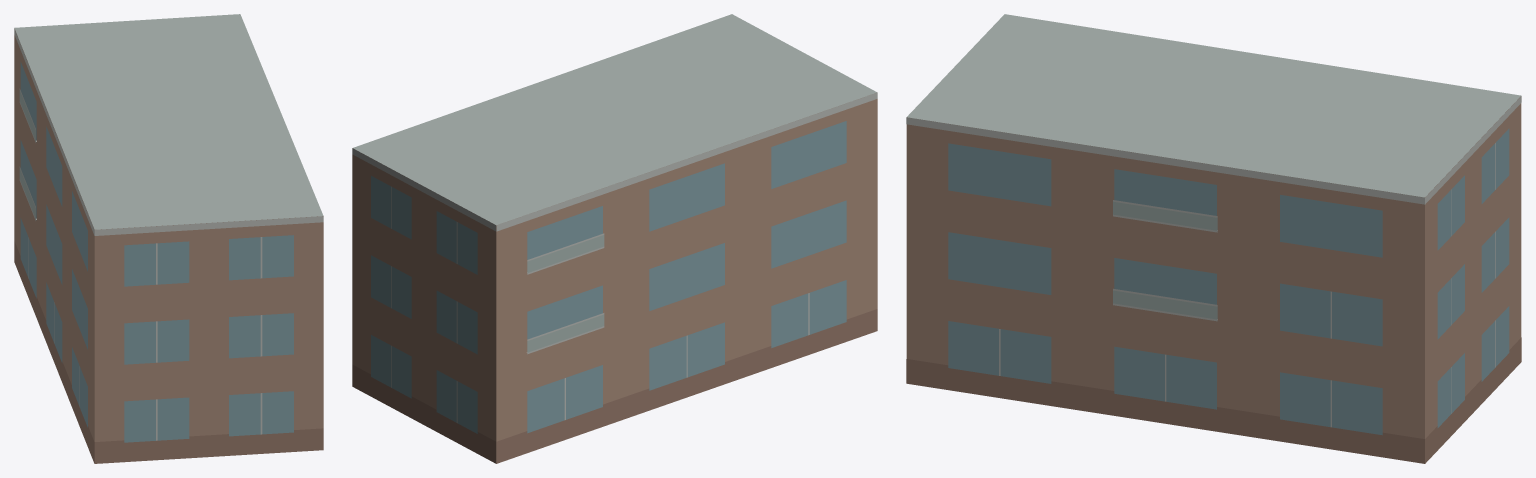
File: survey-upis-32711086.glb
3 renders of one model, left to right at view 1: azimuth 30°, elevation 25°; view 2: azimuth 150°, elevation 25°; view 3: azimuth 270°, elevation 25°, orthographic. The views are drawn at different scales.
Visible parts, largest first — view 1: survey-upis-32711086.tmp; view 2: survey-upis-32711086.tmp; view 3: survey-upis-32711086.tmp.
Boxes of the visible parts, bbox=[...] form: survey-upis-32711086.tmp: bbox=[14, 14, 323, 463]; survey-upis-32711086.tmp: bbox=[352, 14, 877, 463]; survey-upis-32711086.tmp: bbox=[906, 14, 1521, 463].
Bounding box in the file's own units: 13.53 × 9.15 × 19.16.
